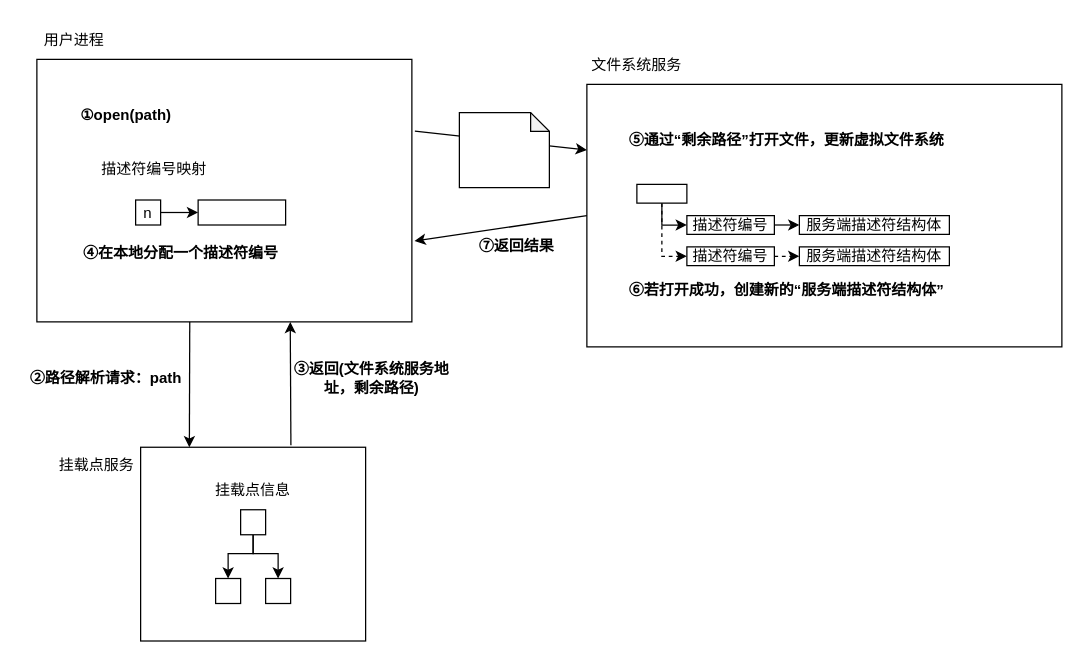
Some shapes in this 1084 by 663 pixel diagram are drawn without their labels. Each missing label, with the box of its shape:
open 描述符编号 剩余路径: (458, 111, 549, 188)
描述符结构: (197, 199, 286, 225)
进程号: (636, 183, 687, 203)
